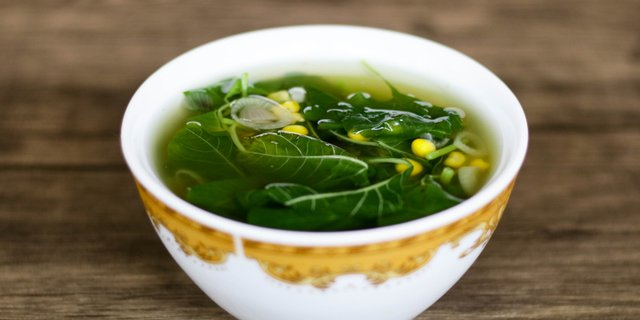Sayur Bayam: (162, 45, 512, 262)
